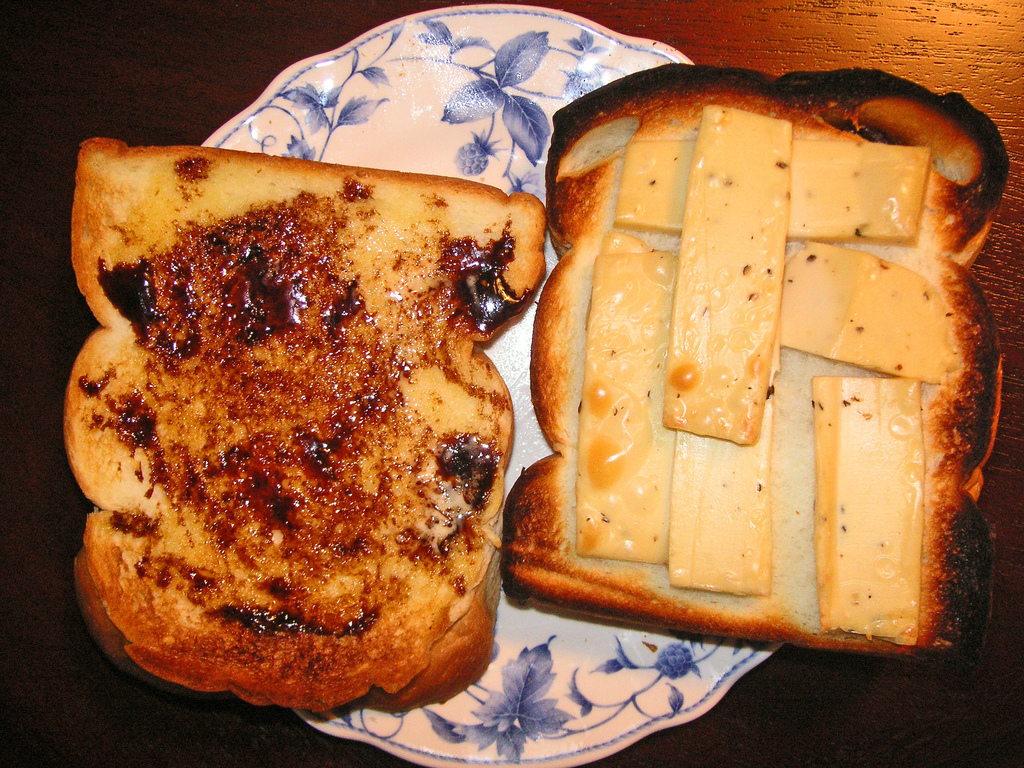slice of bread: (58, 125, 546, 734), (540, 70, 1011, 690)
